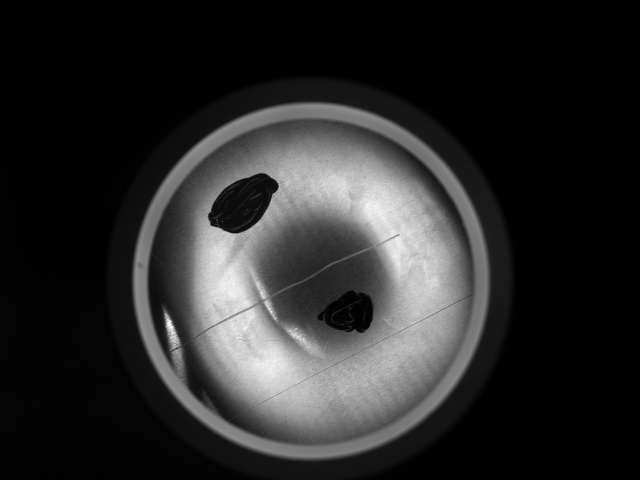ca_shang: (223, 294, 475, 427), (160, 231, 407, 355)
zang_wu: (206, 171, 279, 235), (313, 287, 373, 334)
